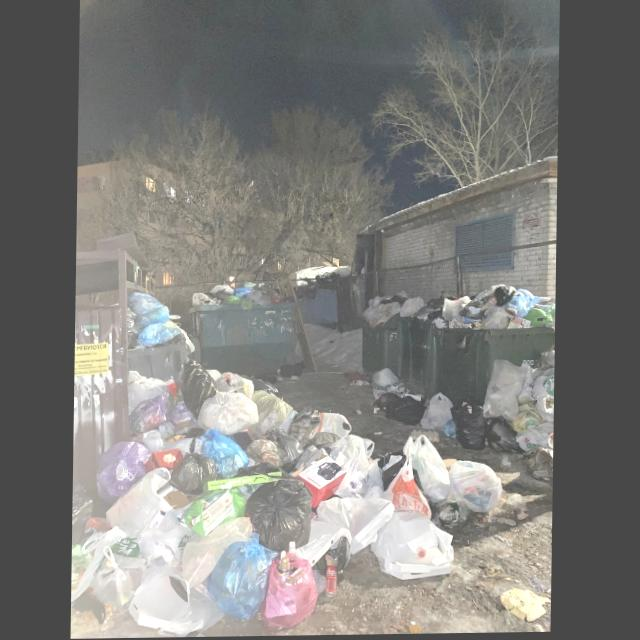Trash_Can_Full: (433, 284, 557, 410), (189, 281, 303, 379), (403, 293, 465, 397), (359, 290, 426, 382)
